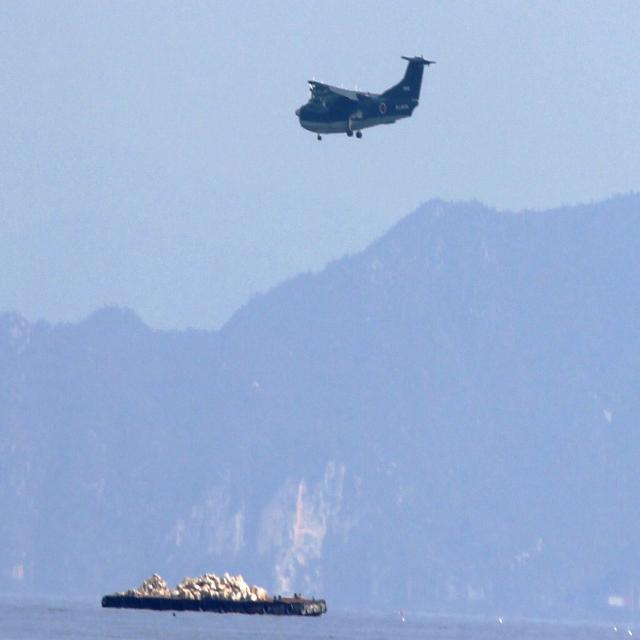MIL_Plane: (294, 54, 436, 141)
